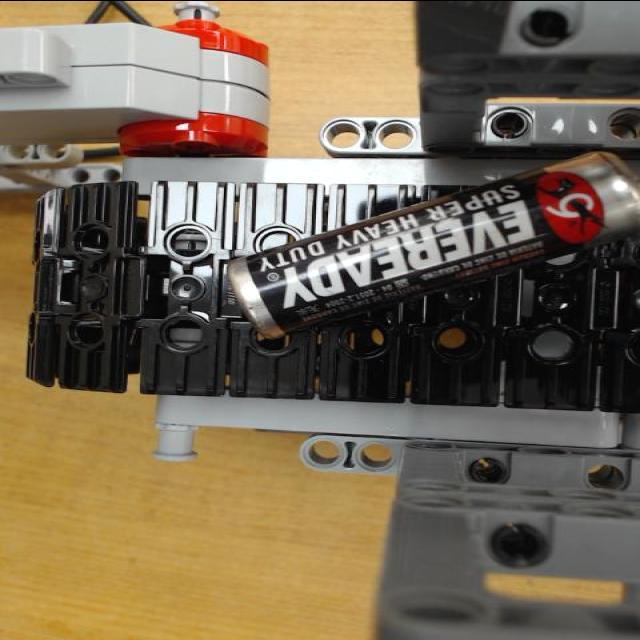AA: (224, 152, 640, 340)
